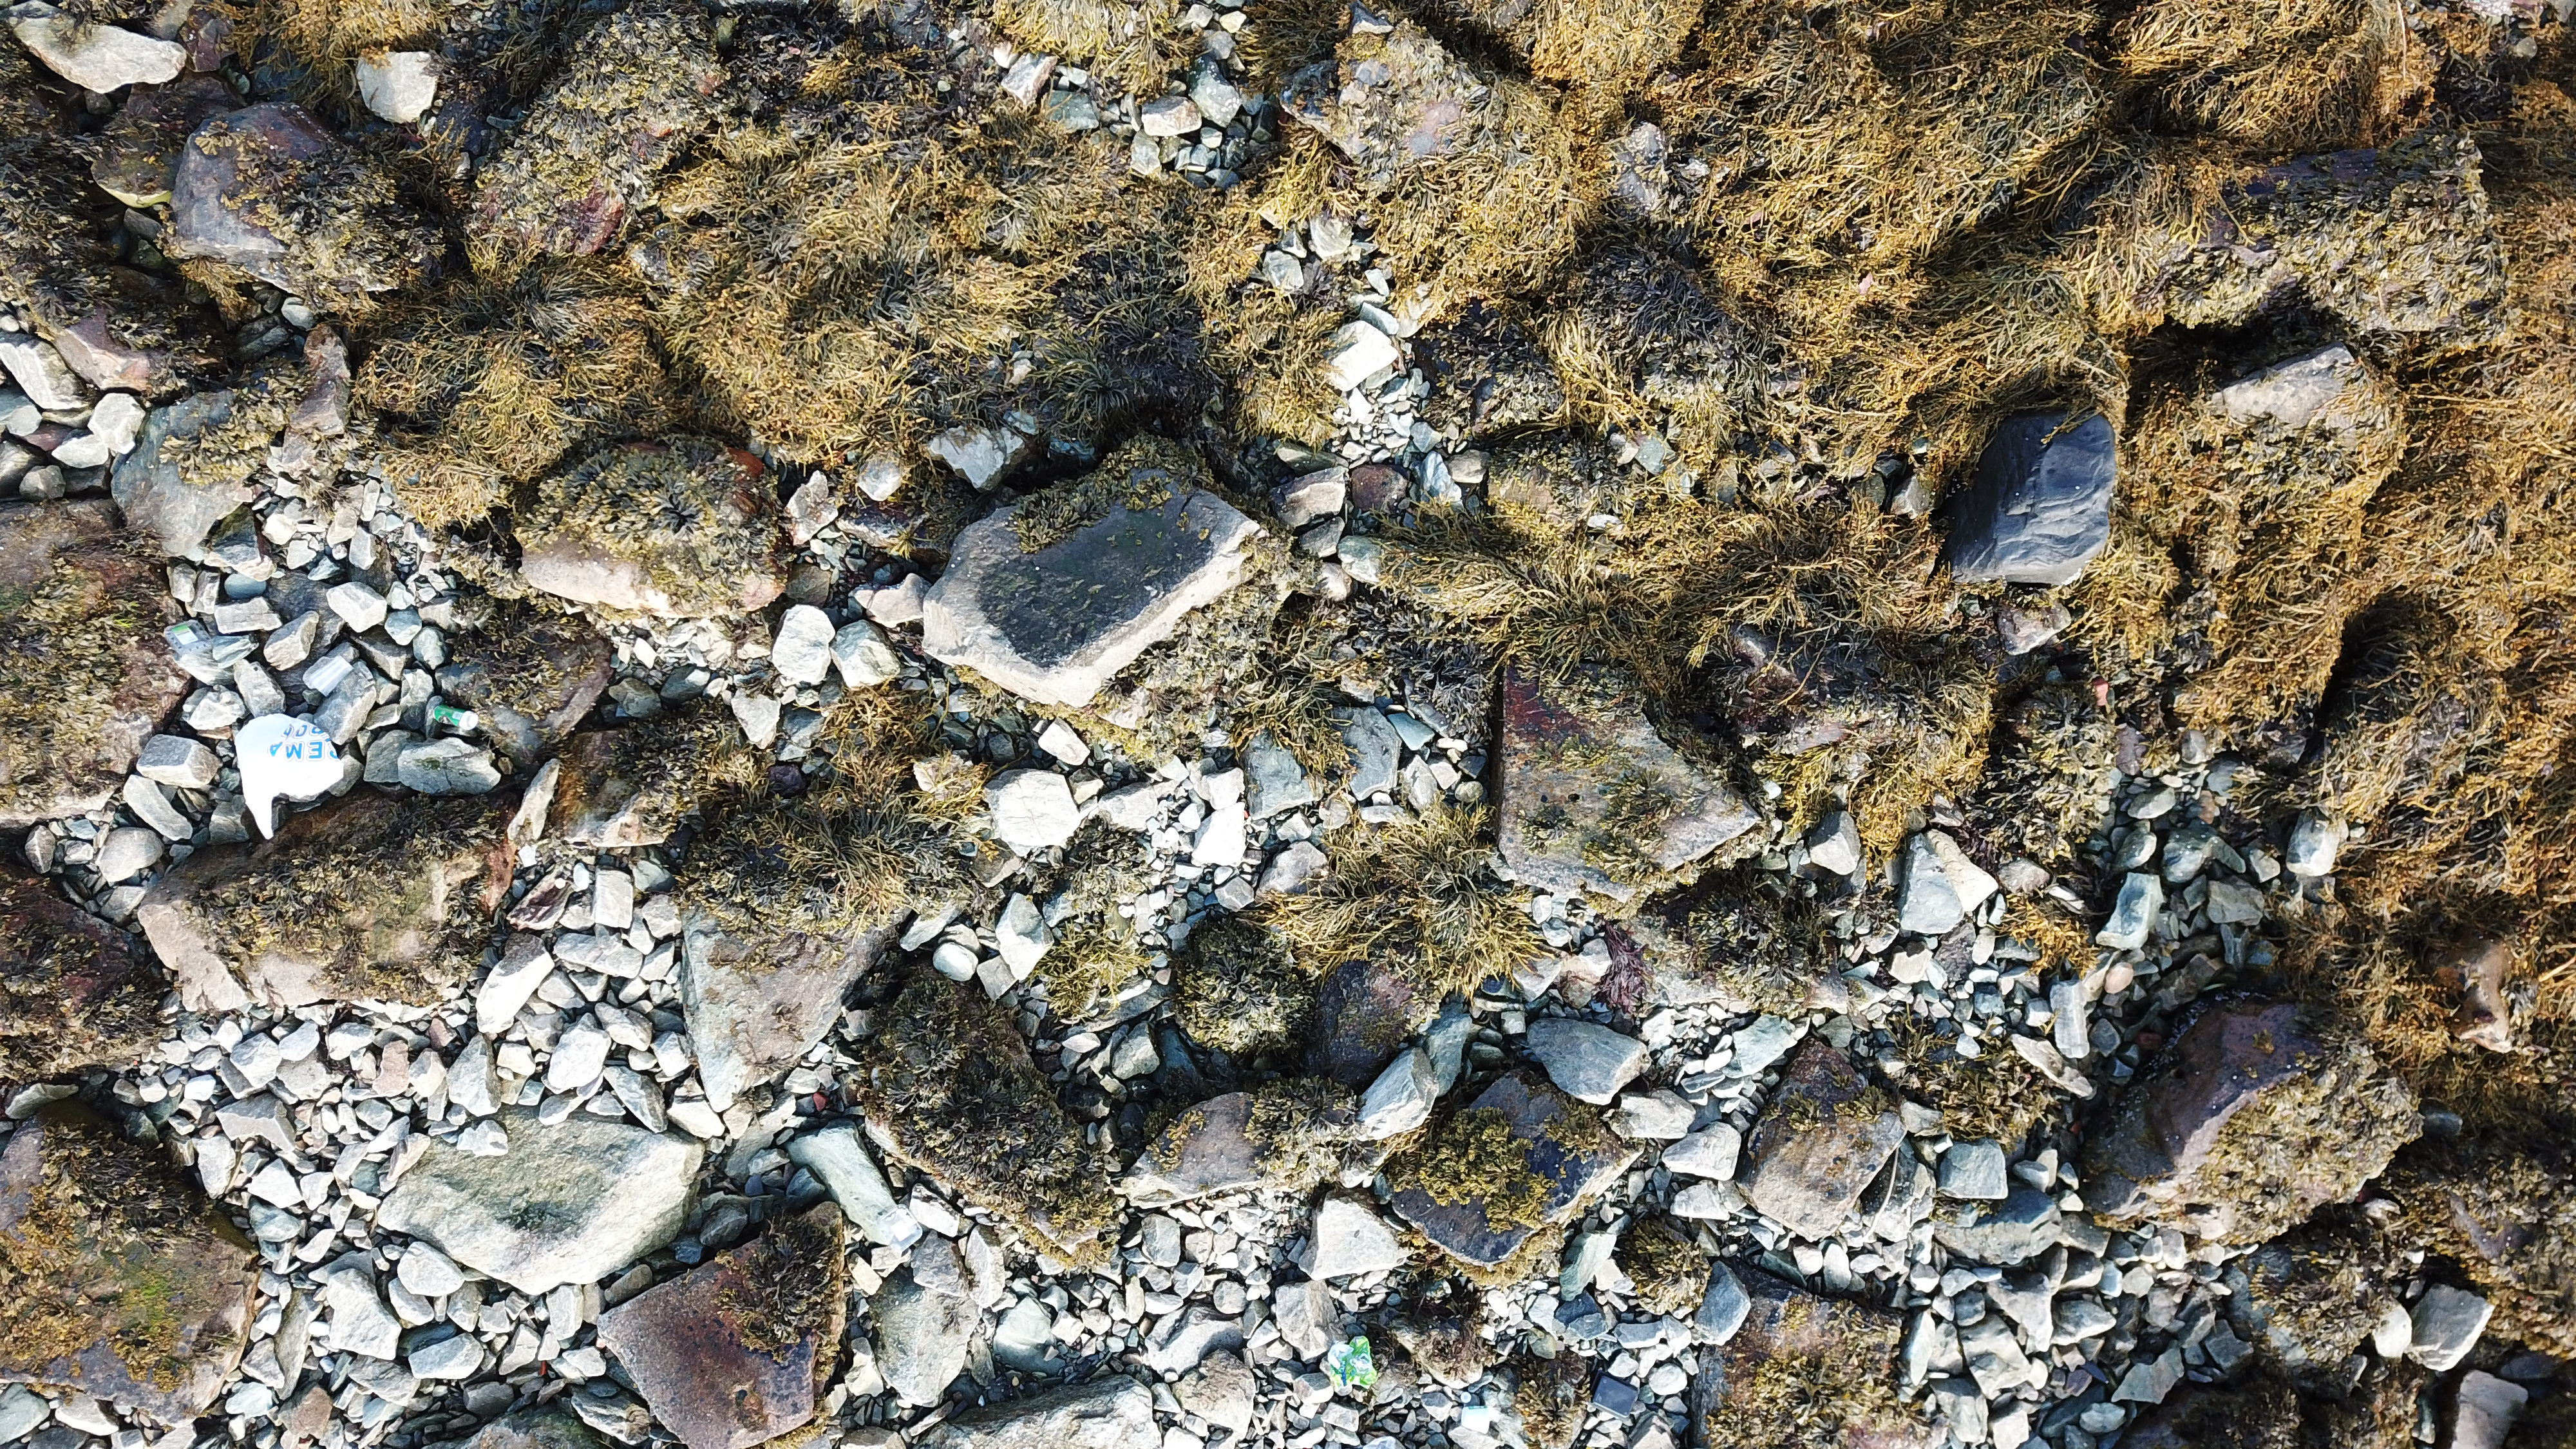Can: (433, 704, 478, 732)
Plastic: (235, 715, 345, 840), (1325, 1334, 1380, 1391), (1592, 1371, 1638, 1421), (163, 617, 216, 658)
